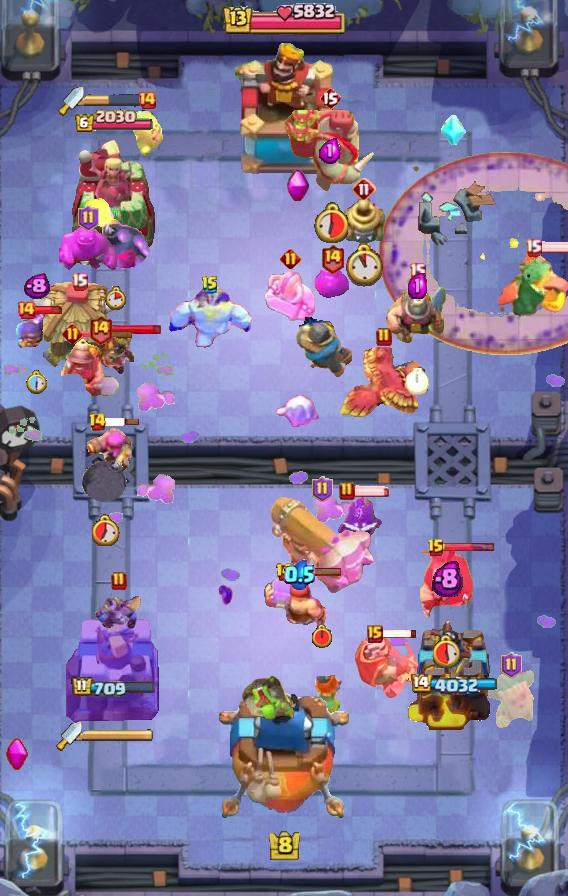bar: (111, 323, 162, 336), (291, 566, 343, 577), (443, 542, 495, 553), (80, 329, 134, 338), (353, 485, 391, 497), (381, 628, 418, 639), (104, 417, 140, 427), (539, 241, 568, 253), (33, 305, 65, 315)
bar-level: (88, 314, 113, 345), (320, 243, 345, 274), (352, 177, 376, 201), (501, 652, 522, 678), (312, 476, 333, 502), (78, 205, 99, 231), (319, 86, 341, 110), (62, 323, 83, 344), (280, 248, 301, 269), (16, 300, 36, 320), (137, 90, 157, 110), (275, 562, 294, 582), (88, 412, 107, 432), (427, 538, 445, 558), (201, 275, 219, 295), (71, 272, 88, 291), (409, 262, 426, 281), (525, 238, 542, 257), (111, 571, 127, 591), (339, 481, 355, 501), (376, 327, 392, 347), (367, 625, 383, 643)
bomb: (79, 196, 151, 270), (81, 442, 132, 504)
clock: (343, 243, 385, 287), (313, 202, 348, 243), (433, 634, 462, 668), (92, 514, 120, 546), (406, 368, 429, 395), (311, 624, 333, 649), (25, 370, 47, 394), (105, 286, 126, 310)
dagger-duchess-tower: (66, 611, 162, 731), (70, 138, 158, 256)
dagger-duchess-tower-bar: (82, 729, 154, 743), (84, 93, 156, 107)
dart-goblin: (483, 666, 539, 730)
electro-spirit: (337, 495, 385, 547)
elite-barbarian: (262, 269, 318, 325)
elixir: (432, 560, 463, 597), (284, 559, 315, 590), (23, 273, 50, 300), (319, 137, 341, 164), (408, 273, 427, 299)
elixir-golem-mid: (59, 225, 117, 271)
elixir-golem-small: (314, 270, 350, 300)
evolution-symbol: (284, 169, 309, 203), (5, 737, 29, 771)
firecracker: (83, 423, 135, 477)
goblin-ball: (240, 673, 298, 721)
heal-spirit: (130, 110, 164, 156)
ice-spirit-evolution: (274, 395, 324, 433)
ice-spirit-evolution-symbol: (441, 115, 467, 147)
king-tower: (219, 692, 349, 826), (228, 41, 340, 181)
king-tower-bar: (221, 0, 347, 40)
knight: (294, 317, 352, 378)
knight-evolution: (15, 306, 57, 349)
little-prince: (102, 326, 134, 376)
lumberjack: (264, 574, 334, 630)
miner: (57, 334, 121, 400), (386, 284, 448, 348)
minion: (94, 590, 144, 632)
queen-tower: (405, 617, 501, 731)
tower-bar: (74, 109, 154, 134), (71, 676, 157, 699), (409, 674, 497, 696)
valkyrie: (310, 670, 348, 722)
zappy: (340, 196, 388, 246)
